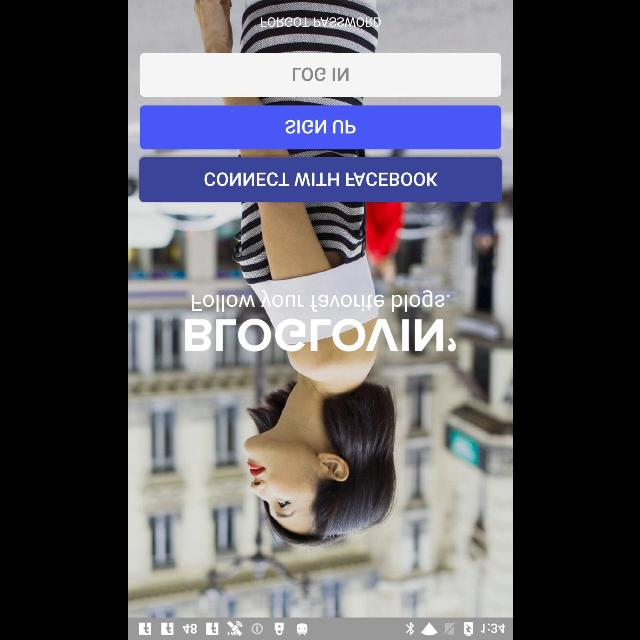backgroundimage: (128, 0, 512, 618)
text: (184, 318, 456, 352), (190, 290, 450, 312), (260, 16, 380, 28)
textbutton: (139, 158, 501, 202), (139, 105, 501, 149), (139, 53, 501, 97)
uppertaskbar: (128, 617, 512, 639)
